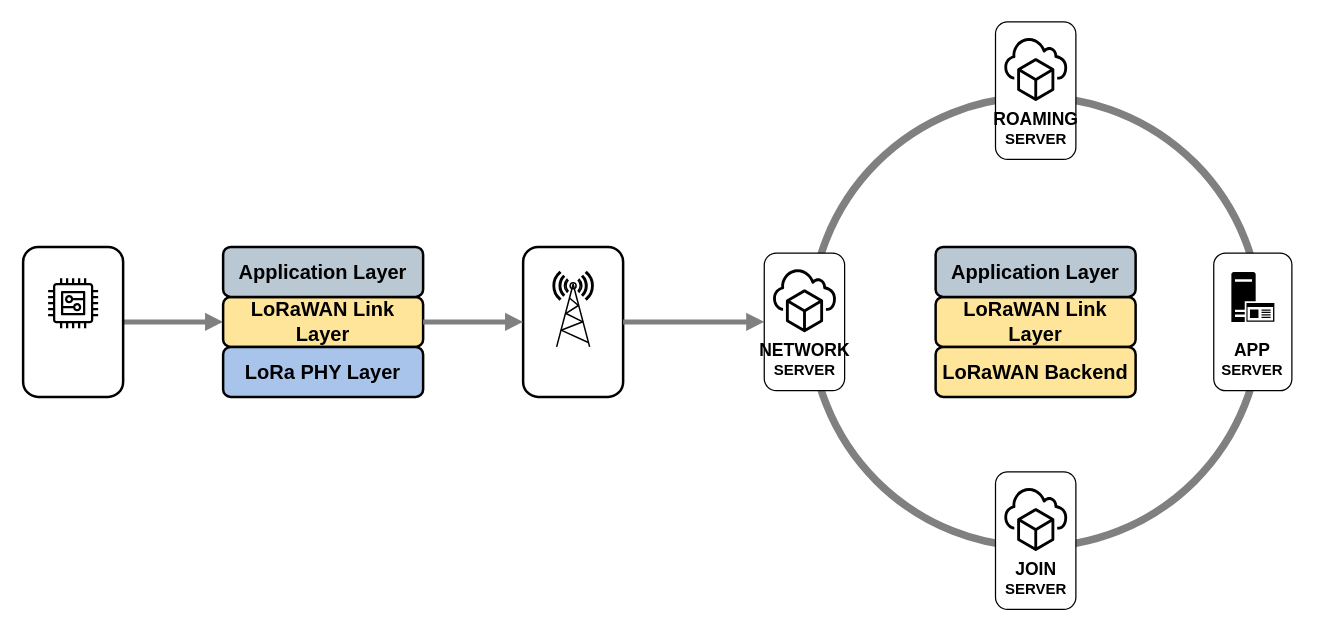
Image size: 1344x631. Some labels were removed from this diagram. The centre of each missing label's shape, as x and y in pixels:
DEVICE: point 72,302
GATEWAY: point 572,308
